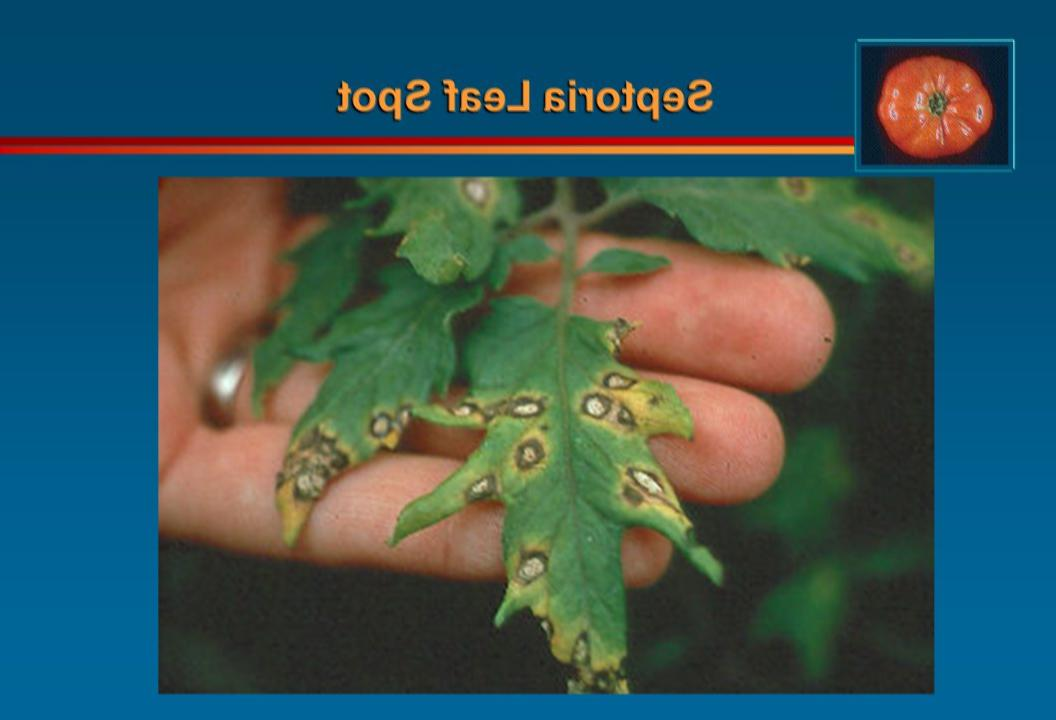Tomato Septoria leaf spot: (416, 306, 732, 688), (264, 255, 466, 549), (570, 180, 929, 299)
